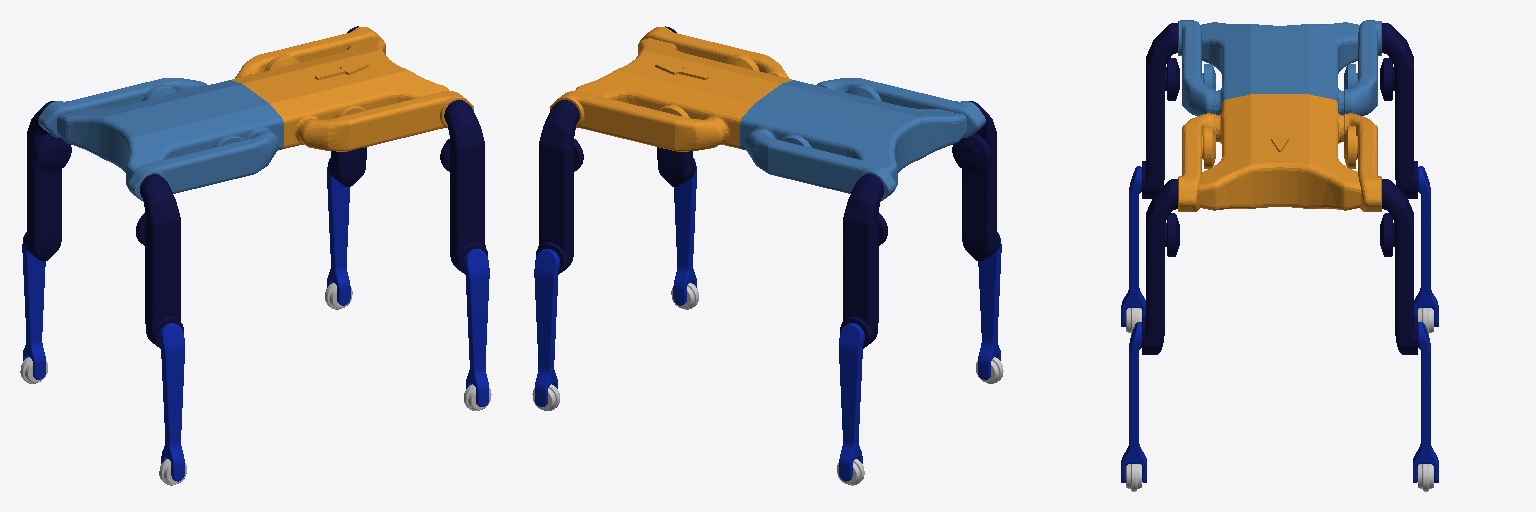
robot.urdf — solo:
<?xml version="1.0" ?>
<!-- =================================================================================== -->
<!-- |    This document was autogenerated by xacro from /usr/local/lib/python3.9/site-packages/robot_properties_solo/resources/xacro/solo8.urdf.xacro | -->
<!-- |    EDITING THIS FILE BY HAND IS NOT RECOMMENDED                                 | -->
<!-- =================================================================================== -->
<robot name="solo" xmlns:controller="http://playerstage.sourceforge.net/gazebo/xmlschema/#controller" xmlns:interface="http://playerstage.sourceforge.net/gazebo/xmlschema/#interface" xmlns:sensor="http://playerstage.sourceforge.net/gazebo/xmlschema/#sensor" xmlns:xacro="http://playerstage.sourceforge.net/gazebo/xmlschema/#interface">
  <!-- This file is based on: https://atlas.is.localnet/confluence/display/AMDW/Quadruped+URDF+Files -->
  <link name="torso_front">
    <!-- BASE LINK INERTIAL -->
    <inertial>
      <origin rpy="0 0 0" xyz="0.1 0 0"/>
      <mass value="0.71657546"/>
      <!-- The base is extremely symmetrical. -->
      <inertia ixx="0.00289287" ixy="0.0" ixz="0.0" iyy="0.00484527" iyz="0.0" izz="0.00619031"/>
    </inertial>
    <!-- BASE LINK VISUAL -->
    <visual>
      <origin rpy="0 0 0" xyz="0.1 0 0"/>
      <geometry>
        <mesh filename="../meshes/solo_torso_front_cen.dae"/>
      </geometry>
      <material name="ftorso_mat">
        <color rgba="0.9 0.6 0.2 1"/>
      </material>
    </visual>
    <!-- BASE LINK COLLISION -->
    <collision>
      <origin rpy="0 0 0" xyz="0.1 0 0"/>
      <geometry>
        <mesh filename="../meshes/solo_torso_front_cen.dae"/>
      </geometry>
    </collision>
    <!-- Bullet specific paramters -->
    <contact>
      <lateral_friction value="1.0"/>
      <restitution value="0.5"/>
    </contact>
  </link>
  <!-- SPIN:Between the torso -->
  <joint name="spine_joint" type="revolute">
    <axis xyz="1 0 0"/>
    <origin xyz="0 0 0"/>
    <parent link="torso_front"/>
    <child link="torso_back"/>
    <limit effort="20.0" lower="-4" upper="4" velocity="10"/>
    <!-- pybullet simulation parameters -->
    <dynamics damping="0.0" friction="0.0"/>
  </joint>
  <link name="torso_back">
    <!-- BASE LINK INERTIAL -->
    <inertial>
      <origin rpy="0 0 0" xyz="-0.1 0 0"/>
      <mass value="0.71657546"/>
      <!-- The base is extremely symmetrical. -->
      <inertia ixx="0.00289287" ixy="0.0" ixz="0.0" iyy="0.00484527" iyz="0.0" izz="0.00619031"/>
    </inertial>
    <!-- BASE LINK VISUAL -->
    <visual>
      <origin rpy="0 0 0" xyz="-0.1 0 0"/>
      <geometry>
        <mesh filename="../meshes/solo_torso_back_cen.dae"/>
      </geometry>
      <material name="btorso_mat">
        <color rgba="0.3 0.5 0.7 1"/>
      </material>
    </visual>
    <!-- BASE LINK COLLISION -->
    <collision>
      <origin rpy="0 0 0" xyz="-0.1 0 0"/>
      <geometry>
        <mesh filename="../meshes/solo_torso_back_cen.dae"/>
      </geometry>
    </collision>
    <!-- Bullet specific paramters -->
    <contact>
      <lateral_friction value="1.0"/>
      <restitution value="0.5"/>
    </contact>
  </link>
  <!-- END BASE LINK -->
  <!-- Joint between the base and the ${prefix} upper leg -->
  <joint name="FL_HFE" type="revolute">
    <parent link="torso_front"/>
    <child link="FL_UPPER_LEG"/>
    <limit effort="2.5" lower="0" upper="1.5707963" velocity="8"/>
    <!-- joints rotates around the y-axis -->
    <axis xyz="0 1 0"/>
    <origin rpy="0 0 0" xyz="0.19 0.1046 0"/>
    <!-- pybullet simulation parameters -->
    <dynamics damping="0.0" friction="0.0"/>
  </joint>
  <link name="FL_UPPER_LEG">
    <!-- Left upper leg inertia -->
    <inertial>
      <origin rpy="0 0 0" xyz="0.00001377 0.01935853 -0.07870700"/>
      <mass value="0.14853845"/>
      <inertia ixx="0.00041107" ixy="0.0" ixz="0.0" iyy="0.00041193" iyz="0.00004671" izz="0.00003024"/>
    </inertial>
    <!-- UPPER LEG LINK VISUAL -->
    <visual>
      <origin rpy="0 0 0" xyz="0 0 0"/>
      <geometry>
        <mesh filename="../meshes/solo_upper_leg_left_side.dae"/>
      </geometry>
      <material name="fthigh_mat">
        <color rgba="0.1 0.1 0.3 1"/>
      </material>
    </visual>
    <!-- UPPER LEG LINK COLLISION -->
    <collision>
      <origin rpy="0 0 0" xyz="0 0 0"/>
      <geometry>
        <mesh filename="../meshes/solo_upper_leg_left_side.dae"/>
      </geometry>
    </collision>
    <!-- Bullet specific paramters -->
    <contact>
      <lateral_friction value="1.0"/>
      <restitution value="0.5"/>
    </contact>
  </link>
  <!-- END UPPER LEG LINK -->
  <!-- KFE: Joint between the upper leg and the lower leg -->
  <joint name="FL_KFE" type="revolute">
    <parent link="FL_UPPER_LEG"/>
    <child link="FL_LOWER_LEG"/>
    <limit effort="2.5" lower="-3.14" upper="0" velocity="8"/>
    <!-- joints rotates around the y-axis -->
    <axis xyz="0 1 0"/>
    <origin rpy="0 0 0" xyz="0 0.037450000000000004 -0.16"/>
    <!-- pybullet simulation parameters -->
    <dynamics damping="0.0" friction="0.0"/>
  </joint>
  <link name="FL_LOWER_LEG">
    <!-- Left lower leg inertia -->
    <inertial>
      <origin rpy="0 0 0" xyz="0.0 0.00787644 -0.08928215"/>
      <mass value="0.03070001"/>
      <inertia ixx="0.00012024" ixy="0.0" ixz="0.0" iyy="0.00012029" iyz="0.00000305" izz="0.00000216"/>
    </inertial>
    <!-- LOWER LEG LINK VISUAL -->
    <visual>
      <origin rpy="0 0 0" xyz="0 0 0"/>
      <geometry>
        <mesh filename="../meshes/solo_lower_leg_left_side.dae"/>
      </geometry>
      <material name="fshin_mat">
        <color rgba="0.1 0.2 0.7 0.4"/>
      </material>
    </visual>
    <!-- LOWER LEG LINK COLLISION -->
    <collision>
      <origin rpy="0 0 0" xyz="0 0 0"/>
      <geometry>
        <mesh filename="../meshes/solo_lower_leg_left_side.dae"/>
      </geometry>
    </collision>
    <!-- Bullet specific paramters -->
    <contact>
      <lateral_friction value="1.0"/>
      <restitution value="0.5"/>
    </contact>
  </link>
  <!-- END LOWER LEG LINK -->
  <!-- KFE: Joint between the upper leg and the lower leg -->
  <joint name="FL_ANKLE" type="fixed">
    <parent link="FL_LOWER_LEG"/>
    <child link="FL_FOOT"/>
    <origin rpy="0 0 0" xyz="0 0.008 -0.16"/>
    <!-- pybullet simulation parameters -->
    <dynamics damping="0.0" friction="0.0"/>
  </joint>
  <link name="FL_FOOT">
    <!-- FOOT INERTIAL -->
    <!-- This link is symmetrical left or right -->
    <inertial>
      <origin rpy="0 0 0" xyz="0 0 0.00035767"/>
      <mass value="0.00693606"/>
      <inertia ixx="0.00000057" ixy="0.0" ixz="0.0" iyy="0.00000084" iyz="0.0" izz="0.00000053"/>
    </inertial>
    <!-- FOOT VISUAL -->
    <visual>
      <origin rpy="0 0 0" xyz="0 0 0"/>
      <geometry>
        <mesh filename="../meshes/solo_foot.dae"/>
      </geometry>
      <material name="grey">
        <color rgba="0.8 0.8 0.8 1.0"/>
      </material>
    </visual>
    <!-- FOOT COLLISION -->
    <collision>
      <origin rpy="0 0 0" xyz="0 0 0"/>
      <geometry>
        <mesh filename="../meshes/solo_foot.dae"/>
      </geometry>
    </collision>
    <!-- Bullet specific paramters -->
    <contact>
      <lateral_friction value="1.0"/>
      <restitution value="0.5"/>
    </contact>
  </link>
  <!-- END LOWER LEG LINK -->
  <!-- Joint between the base and the ${prefix} upper leg -->
  <joint name="FR_HFE" type="revolute">
    <parent link="torso_front"/>
    <child link="FR_UPPER_LEG"/>
    <limit effort="2.5" lower="0" upper="1.5707963" velocity="8"/>
    <!-- joints rotates around the y-axis -->
    <axis xyz="0 1 0"/>
    <origin rpy="0 0 0" xyz="0.19 -0.1046 0"/>
    <!-- pybullet simulation parameters -->
    <dynamics damping="0.0" friction="0.0"/>
  </joint>
  <link name="FR_UPPER_LEG">
    <!-- Right upper leg inertia -->
    <inertial>
      <origin rpy="0 0 0" xyz="-0.00001377 -0.01935853 -0.07870700"/>
      <mass value="0.14853845"/>
      <inertia ixx="0.00041107" ixy="0.0" ixz="0.0" iyy="0.00041193" iyz="-0.00004671" izz="0.00003024"/>
    </inertial>
    <!-- UPPER LEG LINK VISUAL -->
    <visual>
      <origin rpy="0 0 0" xyz="0 0 0"/>
      <geometry>
        <mesh filename="../meshes/solo_upper_leg_right_side.dae"/>
      </geometry>
      <material name="fthigh_mat">
        <color rgba="0.1 0.1 0.3 1"/>
      </material>
    </visual>
    <!-- UPPER LEG LINK COLLISION -->
    <collision>
      <origin rpy="0 0 0" xyz="0 0 0"/>
      <geometry>
        <mesh filename="../meshes/solo_upper_leg_right_side.dae"/>
      </geometry>
    </collision>
    <!-- Bullet specific paramters -->
    <contact>
      <lateral_friction value="1.0"/>
      <restitution value="0.5"/>
    </contact>
  </link>
  <!-- END UPPER LEG LINK -->
  <!-- KFE: Joint between the upper leg and the lower leg -->
  <joint name="FR_KFE" type="revolute">
    <parent link="FR_UPPER_LEG"/>
    <child link="FR_LOWER_LEG"/>
    <limit effort="2.5" lower="-3.14" upper="0" velocity="8"/>
    <!-- joints rotates around the y-axis -->
    <axis xyz="0 1 0"/>
    <origin rpy="0 0 0" xyz="0 -0.037450000000000004 -0.16"/>
    <!-- pybullet simulation parameters -->
    <dynamics damping="0.0" friction="0.0"/>
  </joint>
  <link name="FR_LOWER_LEG">
    <!-- Right lower leg inertia -->
    <inertial>
      <origin rpy="0 0 0" xyz="0.0 0.00787644 -0.08928215"/>
      <mass value="0.03070001"/>
      <inertia ixx="0.00012024" ixy="0.0" ixz="0.0" iyy="0.00012029" iyz="-0.00000305" izz="0.00000216"/>
    </inertial>
    <!-- LOWER LEG LINK VISUAL -->
    <visual>
      <origin rpy="0 0 0" xyz="0 0 0"/>
      <geometry>
        <mesh filename="../meshes/solo_lower_leg_right_side.dae"/>
      </geometry>
      <material name="fshin_mat">
        <color rgba="0.1 0.2 0.7 0.4"/>
      </material>
    </visual>
    <!-- LOWER LEG LINK COLLISION -->
    <collision>
      <origin rpy="0 0 0" xyz="0 0 0"/>
      <geometry>
        <mesh filename="../meshes/solo_lower_leg_right_side.dae"/>
      </geometry>
    </collision>
    <!-- Bullet specific paramters -->
    <contact>
      <lateral_friction value="1.0"/>
      <restitution value="0.5"/>
    </contact>
  </link>
  <!-- END LOWER LEG LINK -->
  <!-- KFE: Joint between the upper leg and the lower leg -->
  <joint name="FR_ANKLE" type="fixed">
    <parent link="FR_LOWER_LEG"/>
    <child link="FR_FOOT"/>
    <origin rpy="0 0 0" xyz="0 -0.008 -0.16"/>
    <!-- pybullet simulation parameters -->
    <dynamics damping="0.0" friction="0.0"/>
  </joint>
  <link name="FR_FOOT">
    <!-- FOOT INERTIAL -->
    <!-- This link is symmetrical left or right -->
    <inertial>
      <origin rpy="0 0 0" xyz="0 0 0.00035767"/>
      <mass value="0.00693606"/>
      <inertia ixx="0.00000057" ixy="0.0" ixz="0.0" iyy="0.00000084" iyz="0.0" izz="0.00000053"/>
    </inertial>
    <!-- FOOT VISUAL -->
    <visual>
      <origin rpy="0 0 0" xyz="0 0 0"/>
      <geometry>
        <mesh filename="../meshes/solo_foot.dae"/>
      </geometry>
      <material name="grey">
        <color rgba="0.8 0.8 0.8 1.0"/>
      </material>
    </visual>
    <!-- FOOT COLLISION -->
    <collision>
      <origin rpy="0 0 0" xyz="0 0 0"/>
      <geometry>
        <mesh filename="../meshes/solo_foot.dae"/>
      </geometry>
    </collision>
    <!-- Bullet specific paramters -->
    <contact>
      <lateral_friction value="1.0"/>
      <restitution value="0.5"/>
    </contact>
  </link>
  <!-- END LOWER LEG LINK -->
  <!-- Joint between the base and the ${prefix} upper leg -->
  <joint name="HL_HFE" type="revolute">
    <parent link="torso_back"/>
    <child link="HL_UPPER_LEG"/>
    <limit effort="2.5" lower="0" upper="1.5707963" velocity="8"/>
    <!-- joints rotates around the y-axis -->
    <axis xyz="0 1 0"/>
    <origin rpy="0 0 0" xyz="-0.19 0.1046 0"/>
    <!-- pybullet simulation parameters -->
    <dynamics damping="0.0" friction="0.0"/>
  </joint>
  <link name="HL_UPPER_LEG">
    <!-- Left upper leg inertia -->
    <inertial>
      <origin rpy="0 0 0" xyz="0.00001377 0.01935853 -0.07870700"/>
      <mass value="0.14853845"/>
      <inertia ixx="0.00041107" ixy="0.0" ixz="0.0" iyy="0.00041193" iyz="0.00004671" izz="0.00003024"/>
    </inertial>
    <!-- UPPER LEG LINK VISUAL -->
    <visual>
      <origin rpy="0 0 0" xyz="0 0 0"/>
      <geometry>
        <mesh filename="../meshes/solo_upper_leg_left_side.dae"/>
      </geometry>
      <material name="bthigh_mat">
        <color rgba="0.1 0.1 0.3 1"/>
      </material>
    </visual>
    <!-- UPPER LEG LINK COLLISION -->
    <collision>
      <origin rpy="0 0 0" xyz="0 0 0"/>
      <geometry>
        <mesh filename="../meshes/solo_upper_leg_left_side.dae"/>
      </geometry>
    </collision>
    <!-- Bullet specific paramters -->
    <contact>
      <lateral_friction value="1.0"/>
      <restitution value="0.5"/>
    </contact>
  </link>
  <!-- END UPPER LEG LINK -->
  <!-- KFE: Joint between the upper leg and the lower leg -->
  <joint name="HL_KFE" type="revolute">
    <parent link="HL_UPPER_LEG"/>
    <child link="HL_LOWER_LEG"/>
    <limit effort="2.5" lower="-3.14" upper="0" velocity="8"/>
    <!-- joints rotates around the y-axis -->
    <axis xyz="0 1 0"/>
    <origin rpy="0 0 0" xyz="0 0.037450000000000004 -0.16"/>
    <!-- pybullet simulation parameters -->
    <dynamics damping="0.0" friction="0.0"/>
  </joint>
  <link name="HL_LOWER_LEG">
    <!-- Left lower leg inertia -->
    <inertial>
      <origin rpy="0 0 0" xyz="0.0 0.00787644 -0.08928215"/>
      <mass value="0.03070001"/>
      <inertia ixx="0.00012024" ixy="0.0" ixz="0.0" iyy="0.00012029" iyz="0.00000305" izz="0.00000216"/>
    </inertial>
    <!-- LOWER LEG LINK VISUAL -->
    <visual>
      <origin rpy="0 0 0" xyz="0 0 0"/>
      <geometry>
        <mesh filename="../meshes/solo_lower_leg_left_side.dae"/>
      </geometry>
      <material name="bshin_mat">
        <color rgba="0.1 0.2 0.7 0.4"/>
      </material>
    </visual>
    <!-- LOWER LEG LINK COLLISION -->
    <collision>
      <origin rpy="0 0 0" xyz="0 0 0"/>
      <geometry>
        <mesh filename="../meshes/solo_lower_leg_left_side.dae"/>
      </geometry>
    </collision>
    <!-- Bullet specific paramters -->
    <contact>
      <lateral_friction value="1.0"/>
      <restitution value="0.5"/>
    </contact>
  </link>
  <!-- END LOWER LEG LINK -->
  <!-- KFE: Joint between the upper leg and the lower leg -->
  <joint name="HL_ANKLE" type="fixed">
    <parent link="HL_LOWER_LEG"/>
    <child link="HL_FOOT"/>
    <origin rpy="0 0 0" xyz="0 0.008 -0.16"/>
    <!-- pybullet simulation parameters -->
    <dynamics damping="0.0" friction="0.0"/>
  </joint>
  <link name="HL_FOOT">
    <!-- FOOT INERTIAL -->
    <!-- This link is symmetrical left or right -->
    <inertial>
      <origin rpy="0 0 0" xyz="0 0 0.00035767"/>
      <mass value="0.00693606"/>
      <inertia ixx="0.00000057" ixy="0.0" ixz="0.0" iyy="0.00000084" iyz="0.0" izz="0.00000053"/>
    </inertial>
    <!-- FOOT VISUAL -->
    <visual>
      <origin rpy="0 0 0" xyz="0 0 0"/>
      <geometry>
        <mesh filename="../meshes/solo_foot.dae"/>
      </geometry>
      <material name="grey">
        <color rgba="0.8 0.8 0.8 1.0"/>
      </material>
    </visual>
    <!-- FOOT COLLISION -->
    <collision>
      <origin rpy="0 0 0" xyz="0 0 0"/>
      <geometry>
        <mesh filename="../meshes/solo_foot.dae"/>
      </geometry>
    </collision>
    <!-- Bullet specific paramters -->
    <contact>
      <lateral_friction value="1.0"/>
      <restitution value="0.5"/>
    </contact>
  </link>
  <!-- END LOWER LEG LINK -->
  <!-- Joint between the base and the ${prefix} upper leg -->
  <joint name="HR_HFE" type="revolute">
    <parent link="torso_back"/>
    <child link="HR_UPPER_LEG"/>
    <!-- joints rotates around the y-axis -->
    <limit effort="2.5" lower="0" upper="1.5707963" velocity="8"/>
    <axis xyz="0 1 0"/>
    <origin rpy="0 0 0" xyz="-0.19 -0.1046 0"/>
    <!-- pybullet simulation parameters -->
    <dynamics damping="0.0" friction="0.0"/>
  </joint>
  <link name="HR_UPPER_LEG">
    <!-- Right upper leg inertia -->
    <inertial>
      <origin rpy="0 0 0" xyz="-0.00001377 -0.01935853 -0.07870700"/>
      <mass value="0.14853845"/>
      <inertia ixx="0.00041107" ixy="0.0" ixz="0.0" iyy="0.00041193" iyz="-0.00004671" izz="0.00003024"/>
    </inertial>
    <!-- UPPER LEG LINK VISUAL -->
    <visual>
      <origin rpy="0 0 0" xyz="0 0 0"/>
      <geometry>
        <mesh filename="../meshes/solo_upper_leg_right_side.dae"/>
      </geometry>
      <material name="bthigh_mat">
        <color rgba="0.1 0.1 0.3 1"/>
      </material>
    </visual>
    <!-- UPPER LEG LINK COLLISION -->
    <collision>
      <origin rpy="0 0 0" xyz="0 0 0"/>
      <geometry>
        <mesh filename="../meshes/solo_upper_leg_right_side.dae"/>
      </geometry>
    </collision>
    <!-- Bullet specific paramters -->
    <contact>
      <lateral_friction value="1.0"/>
      <restitution value="0.5"/>
    </contact>
  </link>
  <!-- END UPPER LEG LINK -->
  <!-- KFE: Joint between the upper leg and the lower leg -->
  <joint name="HR_KFE" type="revolute">
    <parent link="HR_UPPER_LEG"/>
    <child link="HR_LOWER_LEG"/>
    <limit effort="2.5" lower="-3.14" upper="0" velocity="8"/>
    <!-- joints rotates around the y-axis -->
    <axis xyz="0 1 0"/>
    <origin rpy="0 0 0" xyz="0 -0.037450000000000004 -0.16"/>
    <!-- pybullet simulation parameters -->
    <dynamics damping="0.0" friction="0.0"/>
  </joint>
  <link name="HR_LOWER_LEG">
    <!-- Right lower leg inertia -->
    <inertial>
      <origin rpy="0 0 0" xyz="0.0 0.00787644 -0.08928215"/>
      <mass value="0.03070001"/>
      <inertia ixx="0.00012024" ixy="0.0" ixz="0.0" iyy="0.00012029" iyz="-0.00000305" izz="0.00000216"/>
    </inertial>
    <!-- LOWER LEG LINK VISUAL -->
    <visual>
      <origin rpy="0 0 0" xyz="0 0 0"/>
      <geometry>
        <mesh filename="../meshes/solo_lower_leg_right_side.dae"/>
      </geometry>
      <material name="bshin_mat">
        <color rgba="0.1 0.2 0.7 0.4"/>
      </material>
    </visual>
    <!-- LOWER LEG LINK COLLISION -->
    <collision>
      <origin rpy="0 0 0" xyz="0 0 0"/>
      <geometry>
        <mesh filename="../meshes/solo_lower_leg_right_side.dae"/>
      </geometry>
    </collision>
    <!-- Bullet specific paramters -->
    <contact>
      <lateral_friction value="1.0"/>
      <restitution value="0.5"/>
    </contact>
  </link>
  <!-- END LOWER LEG LINK -->
  <!-- KFE: Joint between the upper leg and the lower leg -->
  <joint name="HR_ANKLE" type="fixed">
    <parent link="HR_LOWER_LEG"/>
    <child link="HR_FOOT"/>
    <origin rpy="0 0 0" xyz="0 -0.008 -0.16"/>
    <!-- pybullet simulation parameters -->
    <dynamics damping="0.0" friction="0.0"/>
  </joint>
  <link name="HR_FOOT">
    <!-- FOOT INERTIAL -->
    <!-- This link is symmetrical left or right -->
    <inertial>
      <origin rpy="0 0 0" xyz="0 0 0.00035767"/>
      <mass value="0.00693606"/>
      <inertia ixx="0.00000057" ixy="0.0" ixz="0.0" iyy="0.00000084" iyz="0.0" izz="0.00000053"/>
    </inertial>
    <!-- FOOT VISUAL -->
    <visual>
      <origin rpy="0 0 0" xyz="0 0 0"/>
      <geometry>
        <mesh filename="../meshes/solo_foot.dae"/>
      </geometry>
      <material name="grey">
        <color rgba="0.8 0.8 0.8 1.0"/>
      </material>
    </visual>
    <!-- FOOT COLLISION -->
    <collision>
      <origin rpy="0 0 0" xyz="0 0 0"/>
      <geometry>
        <mesh filename="../meshes/solo_foot.dae"/>
      </geometry>
    </collision>
    <!-- Bullet specific paramters -->
    <contact>
      <lateral_friction value="1.0"/>
      <restitution value="0.5"/>
    </contact>
  </link>
  <!-- END LOWER LEG LINK -->
</robot>

--- Render facts (derived) ---
The picture shows the robot from 3 angles, left to right: view 1: azimuth 30°, elevation 25°; view 2: azimuth 150°, elevation 25°; view 3: azimuth 270°, elevation 25°; orthographic projection.
Model solo with 14 links and 13 joints (9 revolute, 4 fixed), rooted at torso_front, posed every joint at zero.
Links seen in each view (by area): view 1: torso_back, torso_front, HR_UPPER_LEG, FR_UPPER_LEG, HL_UPPER_LEG, HR_LOWER_LEG, FR_LOWER_LEG, FL_LOWER_LEG, HL_LOWER_LEG, FL_UPPER_LEG; view 2: torso_back, torso_front, HL_UPPER_LEG, FL_UPPER_LEG, HR_UPPER_LEG, HL_LOWER_LEG, FL_LOWER_LEG, FR_LOWER_LEG, HR_LOWER_LEG, FR_UPPER_LEG; view 3: torso_front, torso_back, FL_UPPER_LEG, FR_UPPER_LEG, HL_UPPER_LEG, HR_UPPER_LEG, FL_LOWER_LEG, FR_LOWER_LEG, HL_LOWER_LEG, HR_LOWER_LEG.
Link boxes in pixels (bbox=[...]): torso_back: bbox=[38, 78, 283, 201]; torso_front: bbox=[232, 27, 473, 151]; HR_UPPER_LEG: bbox=[136, 174, 183, 348]; FR_UPPER_LEG: bbox=[440, 100, 487, 274]; HL_UPPER_LEG: bbox=[24, 101, 71, 261]; HR_LOWER_LEG: bbox=[159, 323, 184, 481]; FR_LOWER_LEG: bbox=[464, 249, 489, 406]; FL_LOWER_LEG: bbox=[327, 159, 350, 305]; HL_LOWER_LEG: bbox=[22, 233, 45, 379]; FL_UPPER_LEG: bbox=[328, 26, 366, 186]; torso_back: bbox=[740, 78, 985, 201]; torso_front: bbox=[550, 27, 791, 151]; HL_UPPER_LEG: bbox=[840, 174, 887, 348]; FL_UPPER_LEG: bbox=[536, 100, 583, 274]; HR_UPPER_LEG: bbox=[952, 101, 999, 261]; HL_LOWER_LEG: bbox=[839, 323, 864, 481]; FL_LOWER_LEG: bbox=[534, 249, 559, 406]; FR_LOWER_LEG: bbox=[673, 159, 696, 305]; HR_LOWER_LEG: bbox=[978, 233, 1001, 379]; FR_UPPER_LEG: bbox=[657, 26, 695, 186]; torso_front: bbox=[1178, 94, 1381, 211]; torso_back: bbox=[1178, 20, 1381, 115]; FL_UPPER_LEG: bbox=[1380, 179, 1417, 354]; FR_UPPER_LEG: bbox=[1142, 179, 1179, 354]; HL_UPPER_LEG: bbox=[1380, 23, 1417, 198]; HR_UPPER_LEG: bbox=[1142, 23, 1179, 198]; FL_LOWER_LEG: bbox=[1413, 322, 1438, 482]; FR_LOWER_LEG: bbox=[1121, 322, 1146, 482]; HL_LOWER_LEG: bbox=[1414, 166, 1438, 326]; HR_LOWER_LEG: bbox=[1121, 166, 1145, 326].
Bounding box of the posed robot: 0.4244 × 0.327 × 0.364 m (x, y, z).
Meshes: 7 distinct files referenced, 14 mesh visuals loaded (7 Collada DAE).
